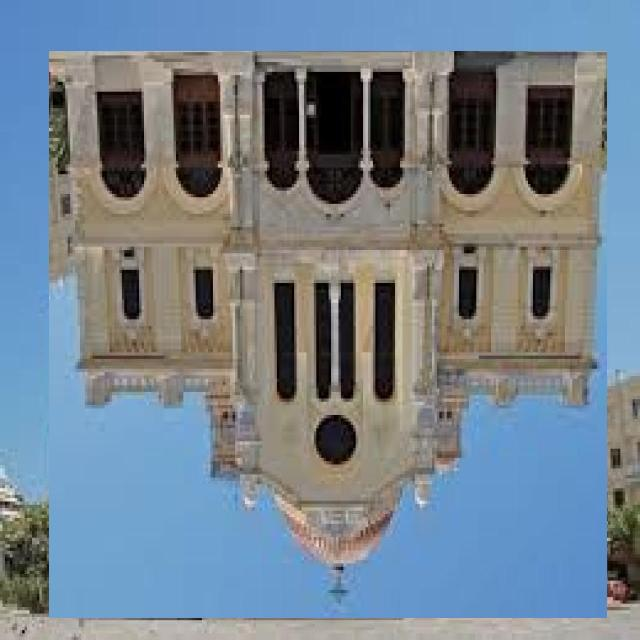Agios Minas: (50, 52, 608, 619)
